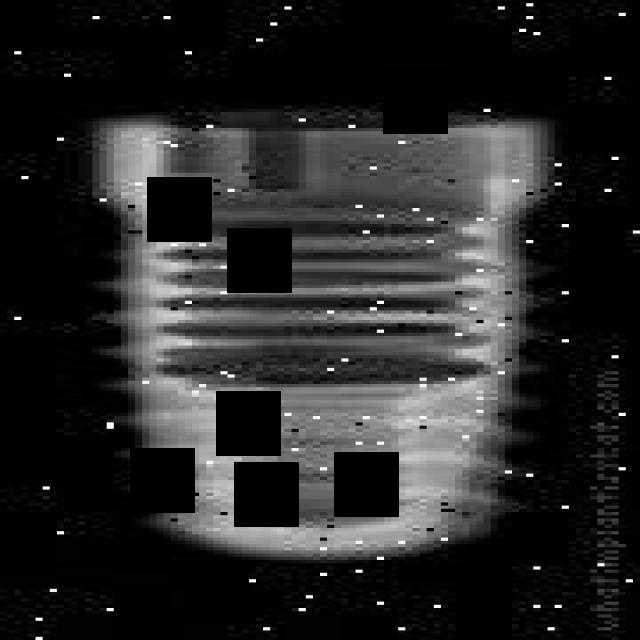Root canal obturation: (85, 109, 562, 570)
